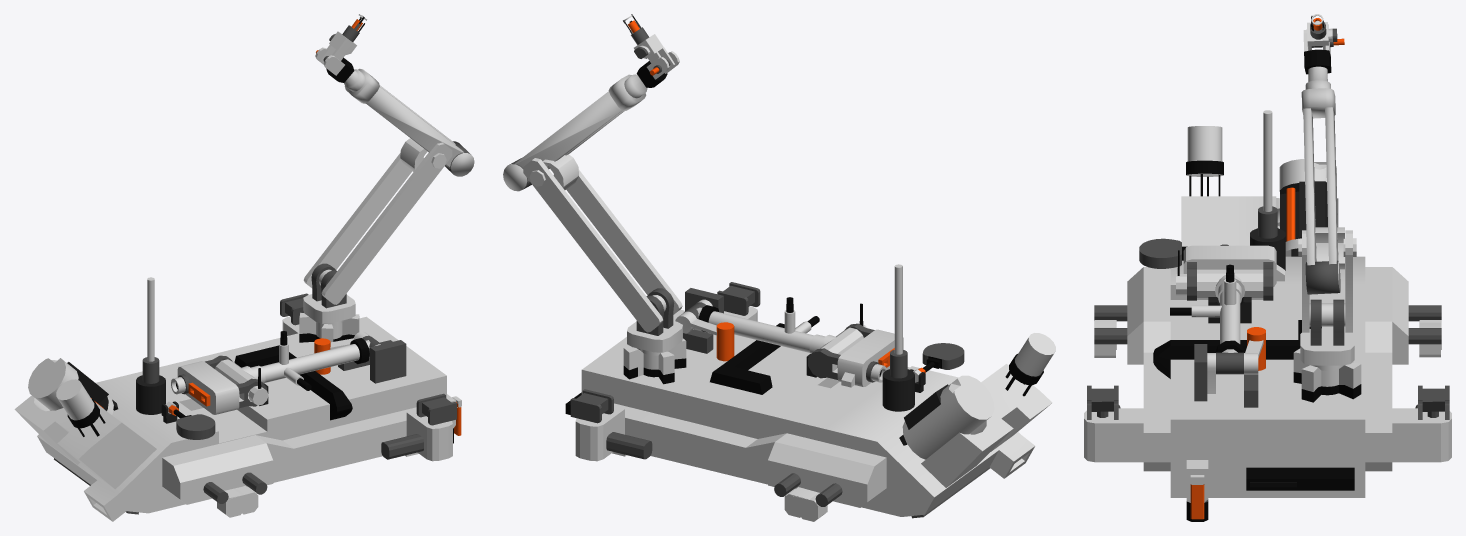
The model's file is base_RoverModificado.obj.
3 views of the same model, side by side, from view 1: azimuth 30°, elevation 25°; view 2: azimuth 150°, elevation 25°; view 3: azimuth 270°, elevation 25° (orthographic). The views are drawn at different scales.
Parts seen in each view (by area): view 1: base_RoverModificado_SpacialRoverExploreralumWhite.001, base_RoverModificado_SpacialRoverExploreralumGray.001, base_RoverModificado_SpacialRoverExploreralumArm, base_RoverModificado_SpacialRoverExploreralumBlack.001, base_RoverModificado_SpacialRoverExploreralumGrayDeep.001, base_RoverModificado_SpacialRoverExploreralumOrange; view 2: base_RoverModificado_SpacialRoverExploreralumWhite.001, base_RoverModificado_SpacialRoverExploreralumGray.001, base_RoverModificado_SpacialRoverExploreralumArm, base_RoverModificado_SpacialRoverExploreralumBlack.001, base_RoverModificado_SpacialRoverExploreralumGrayDeep.001, base_RoverModificado_SpacialRoverExploreralumOrange; view 3: base_RoverModificado_SpacialRoverExploreralumWhite.001, base_RoverModificado_SpacialRoverExploreralumGray.001, base_RoverModificado_SpacialRoverExploreralumBlack.001, base_RoverModificado_SpacialRoverExploreralumArm, base_RoverModificado_SpacialRoverExploreralumGrayDeep.001, base_RoverModificado_SpacialRoverExploreralumOrange.
Part boxes in pixels (x1,y1,x2,y2): base_RoverModificado_SpacialRoverExploreralumWhite.001: [14, 14, 461, 521]; base_RoverModificado_SpacialRoverExploreralumGray.001: [54, 15, 470, 514]; base_RoverModificado_SpacialRoverExploreralumArm: [325, 68, 474, 304]; base_RoverModificado_SpacialRoverExploreralumBlack.001: [67, 16, 453, 443]; base_RoverModificado_SpacialRoverExploreralumGrayDeep.001: [67, 362, 268, 423]; base_RoverModificado_SpacialRoverExploreralumOrange: [91, 19, 461, 435]; base_RoverModificado_SpacialRoverExploreralumWhite.001: [529, 15, 1055, 521]; base_RoverModificado_SpacialRoverExploreralumGray.001: [509, 20, 990, 518]; base_RoverModificado_SpacialRoverExploreralumArm: [503, 74, 659, 332]; base_RoverModificado_SpacialRoverExploreralumBlack.001: [565, 14, 1043, 414]; base_RoverModificado_SpacialRoverExploreralumGrayDeep.001: [806, 354, 948, 445]; base_RoverModificado_SpacialRoverExploreralumOrange: [627, 20, 925, 373]; base_RoverModificado_SpacialRoverExploreralumWhite.001: [1084, 14, 1451, 502]; base_RoverModificado_SpacialRoverExploreralumGray.001: [1087, 19, 1449, 419]; base_RoverModificado_SpacialRoverExploreralumBlack.001: [1153, 16, 1361, 521]; base_RoverModificado_SpacialRoverExploreralumArm: [1301, 66, 1340, 292]; base_RoverModificado_SpacialRoverExploreralumGrayDeep.001: [1208, 181, 1327, 482]; base_RoverModificado_SpacialRoverExploreralumOrange: [1190, 18, 1344, 519].
Bounding box in the file's own units: 11.85 × 9.86 × 6.8.
